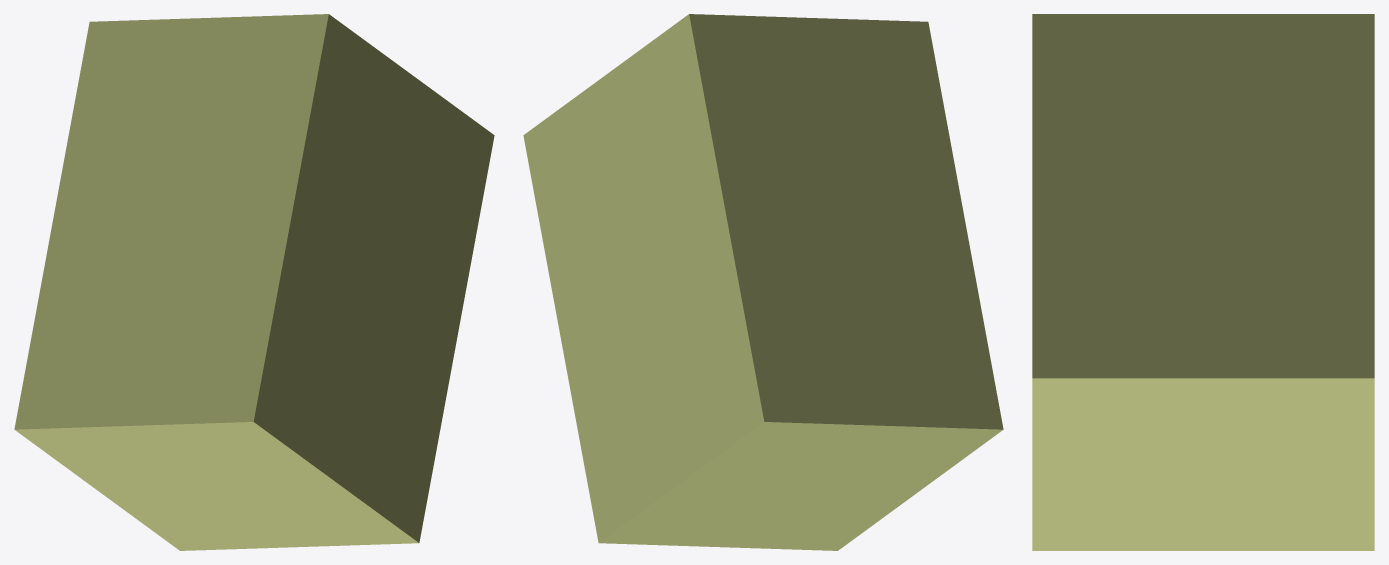
3 views of the same model, side by side, from view 1: azimuth 30°, elevation 25°; view 2: azimuth 150°, elevation 25°; view 3: azimuth 270°, elevation 25° (orthographic). The views are drawn at different scales.
Parts seen in each view (by area): view 1: 0_1_2_0_1_3_0_3_3_2_1; view 2: 0_1_2_0_1_3_0_3_3_2_1; view 3: 0_1_2_0_1_3_0_3_3_2_1.
Part boxes in pixels (left/top/right/bottom): 0_1_2_0_1_3_0_3_3_2_1: left=14, top=14, right=494, bottom=550; 0_1_2_0_1_3_0_3_3_2_1: left=523, top=14, right=1003, bottom=550; 0_1_2_0_1_3_0_3_3_2_1: left=1032, top=14, right=1374, bottom=550.
Size of the model in its own units: 6.57 by 8.79 by 6.
